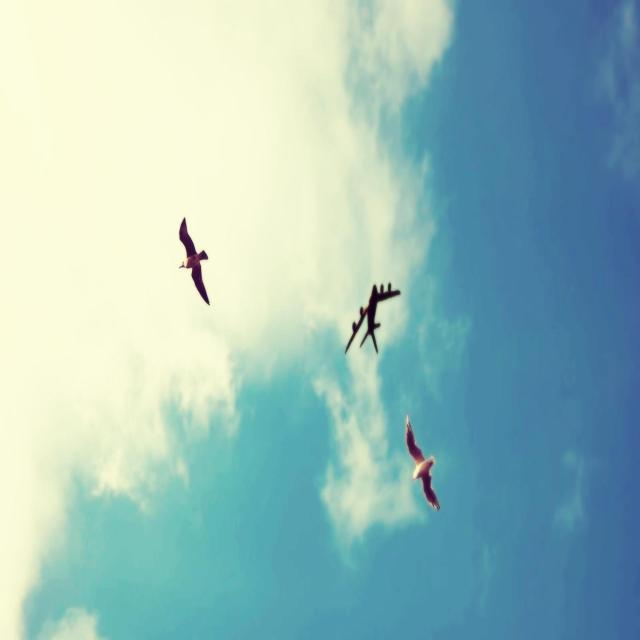airplane: (344, 282, 401, 354)
